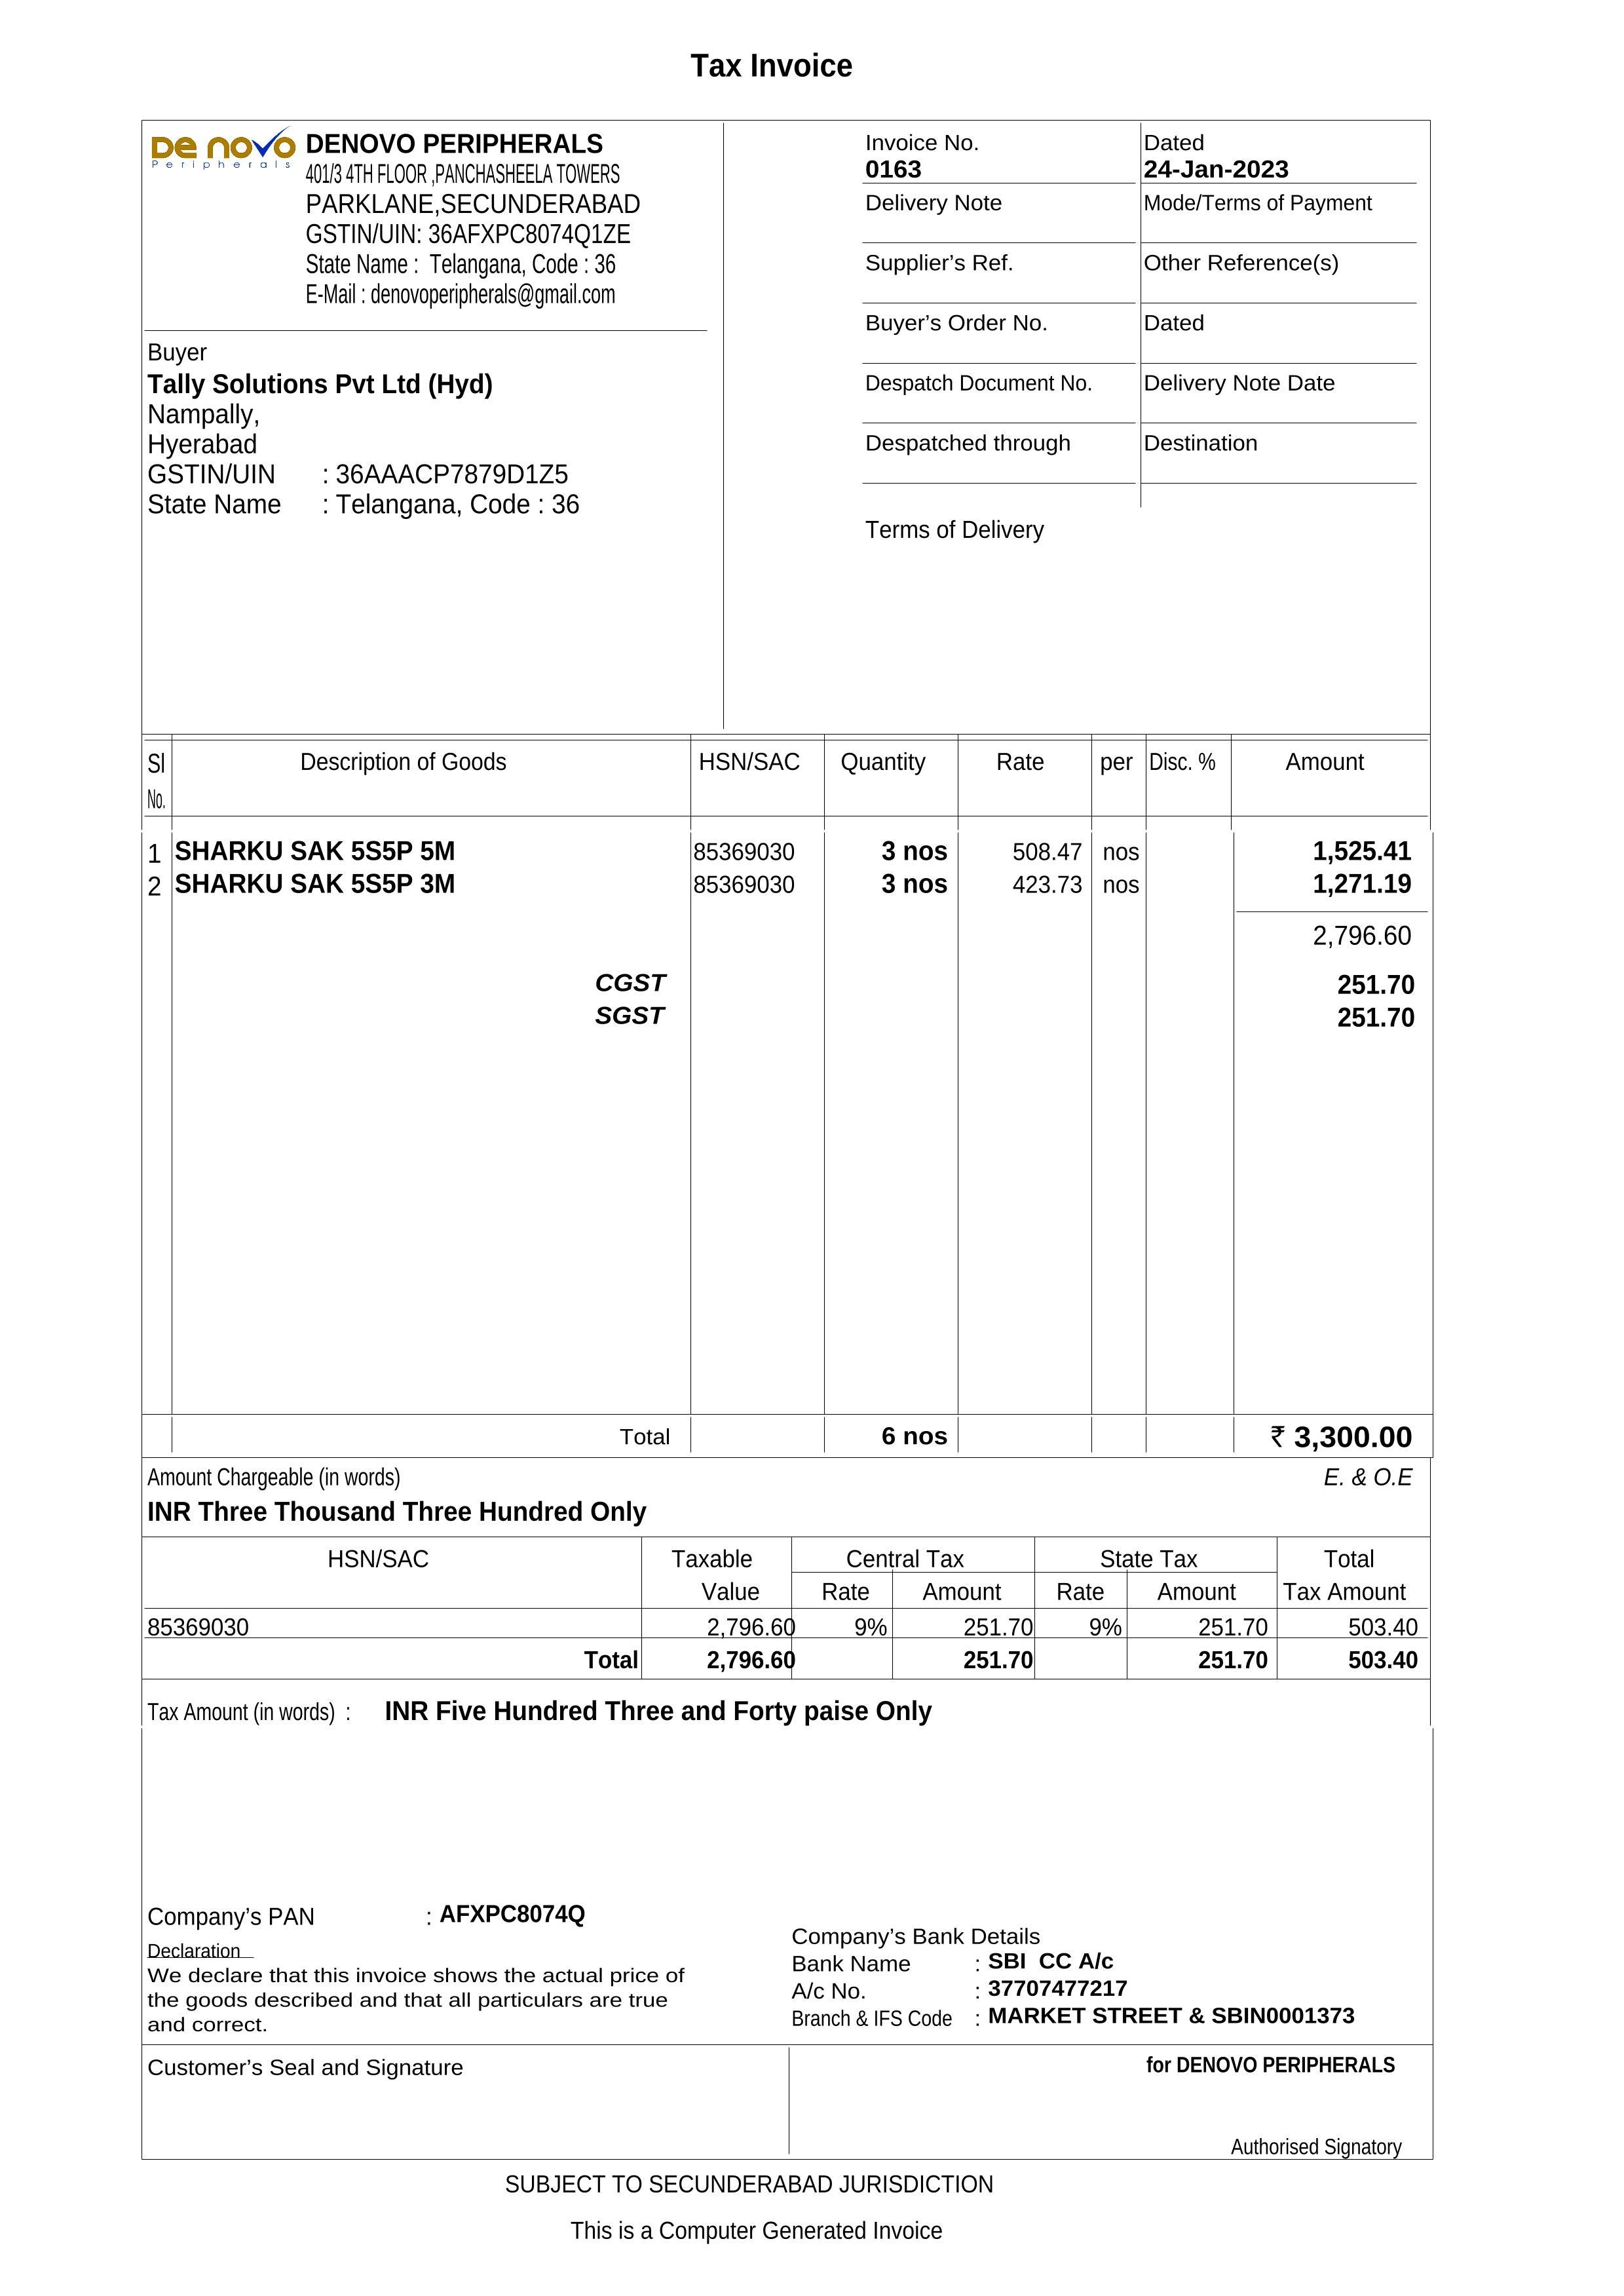InvoiceDate: (1144, 149, 1301, 190)
InvoiceNumber: (859, 156, 924, 179)
TotalAmount: (1262, 1415, 1422, 1457)
